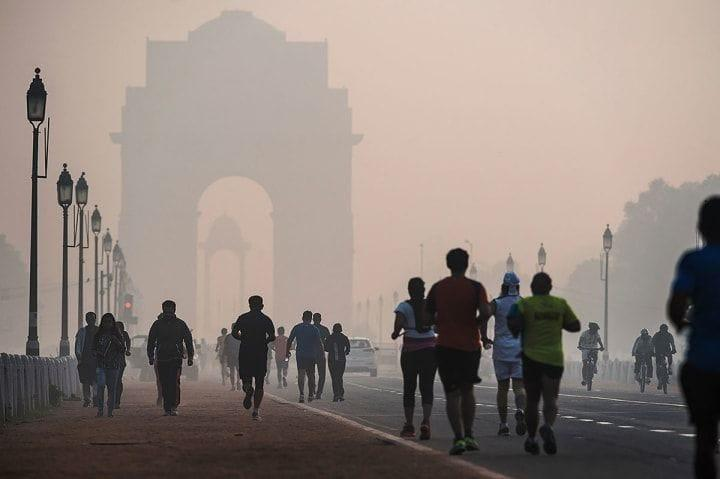Gedung: (108, 10, 367, 332)
Kendaraan: (342, 326, 381, 377), (653, 358, 681, 400), (633, 357, 653, 395), (579, 356, 597, 398)
Manusia: (657, 193, 720, 479), (422, 237, 497, 457), (518, 272, 577, 455), (487, 270, 540, 429), (396, 259, 436, 448), (138, 293, 193, 411), (226, 294, 275, 414), (64, 301, 106, 405), (97, 306, 130, 409), (568, 319, 607, 374), (213, 314, 236, 391), (627, 326, 655, 371), (656, 321, 675, 376)
Vegetasi: (573, 111, 720, 322)
